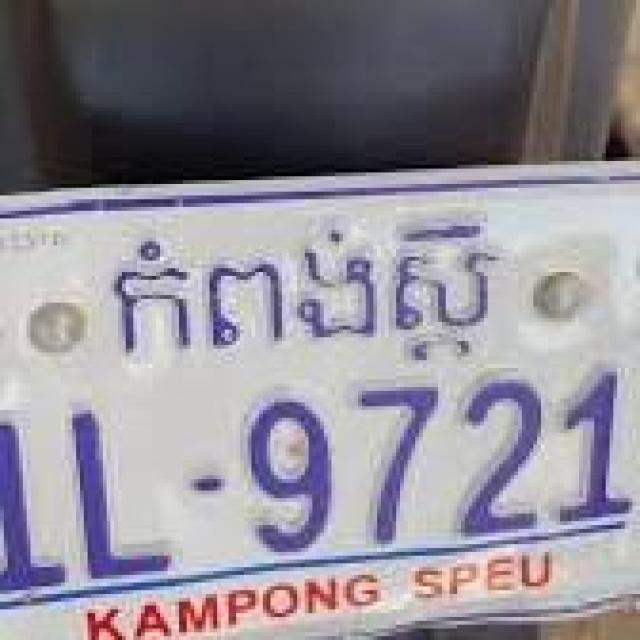Kampong_Speu: (114, 215, 498, 368)
